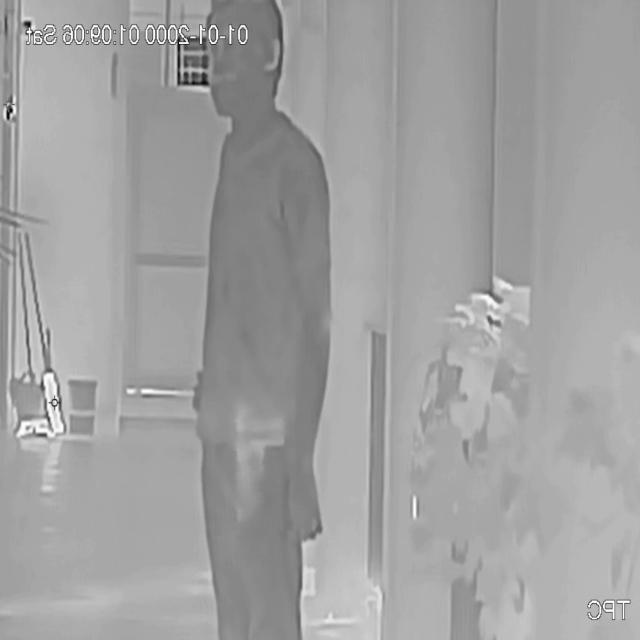Weapon: (208, 394, 296, 536)
